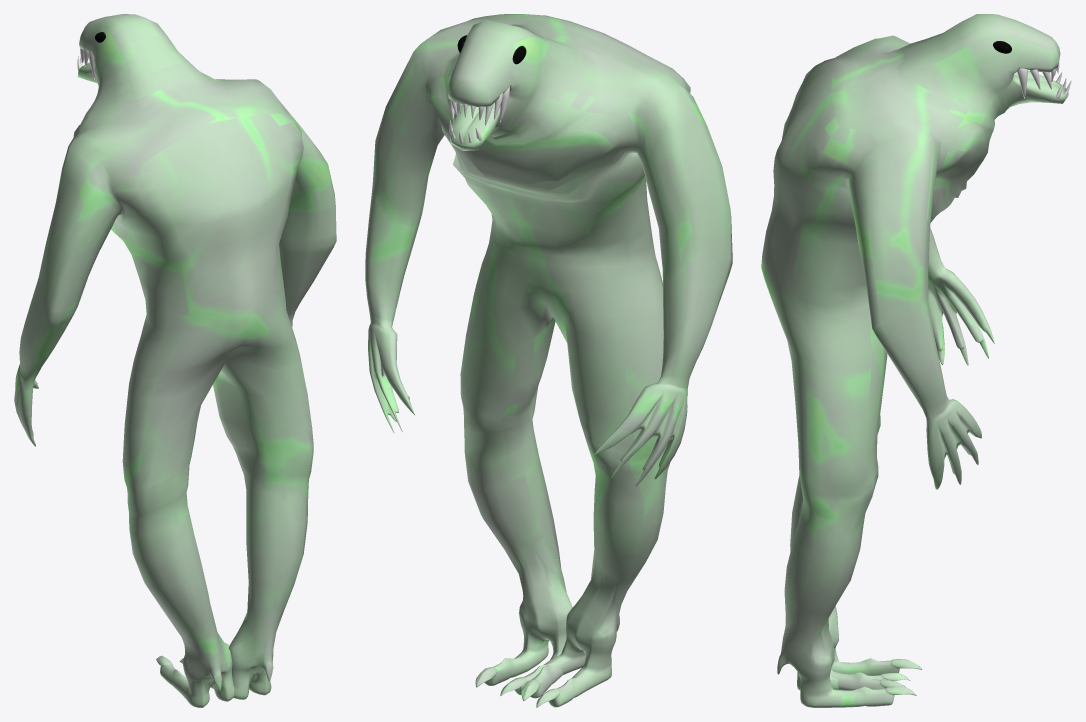
The model's file is Berserkerandar.0016.obj.
3 renders of one model, left to right at view 1: azimuth 30°, elevation 25°; view 2: azimuth 150°, elevation 25°; view 3: azimuth 270°, elevation 25°, orthographic. The views are drawn at different scales.
Parts seen in each view (by area): view 1: polySurface27; view 2: polySurface27; view 3: polySurface27.
Part boxes in pixels (left/top/right/bottom): polySurface27: left=14, top=14, right=336, bottom=707; polySurface27: left=365, top=14, right=732, bottom=707; polySurface27: left=761, top=14, right=1071, bottom=707.
Bounding box in the file's own units: 11.65 × 23.54 × 10.
1 material, 1 textured.
